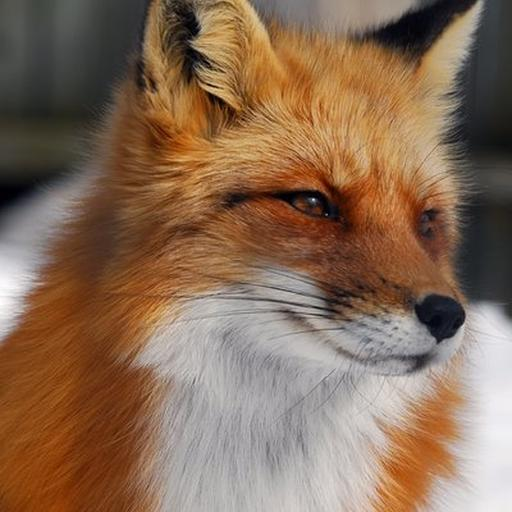Fox: (0, 0, 483, 508)
